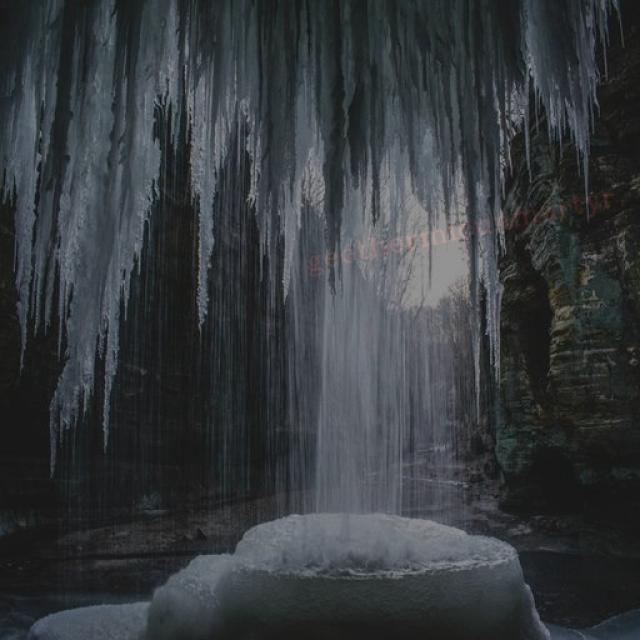watermark: (300, 182, 617, 274)
